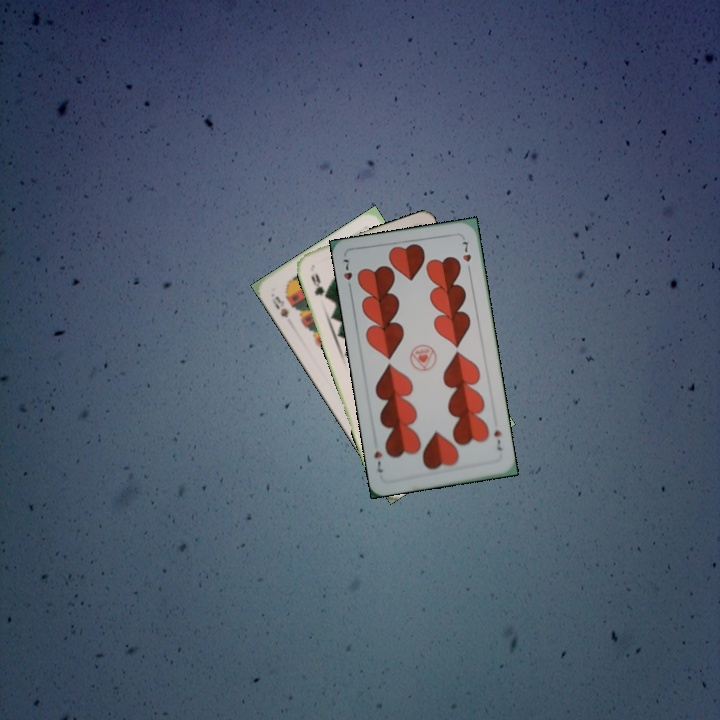G9: (307, 269, 329, 301)
H7: (339, 255, 355, 294), (490, 426, 504, 453)
S8: (268, 292, 291, 320)
